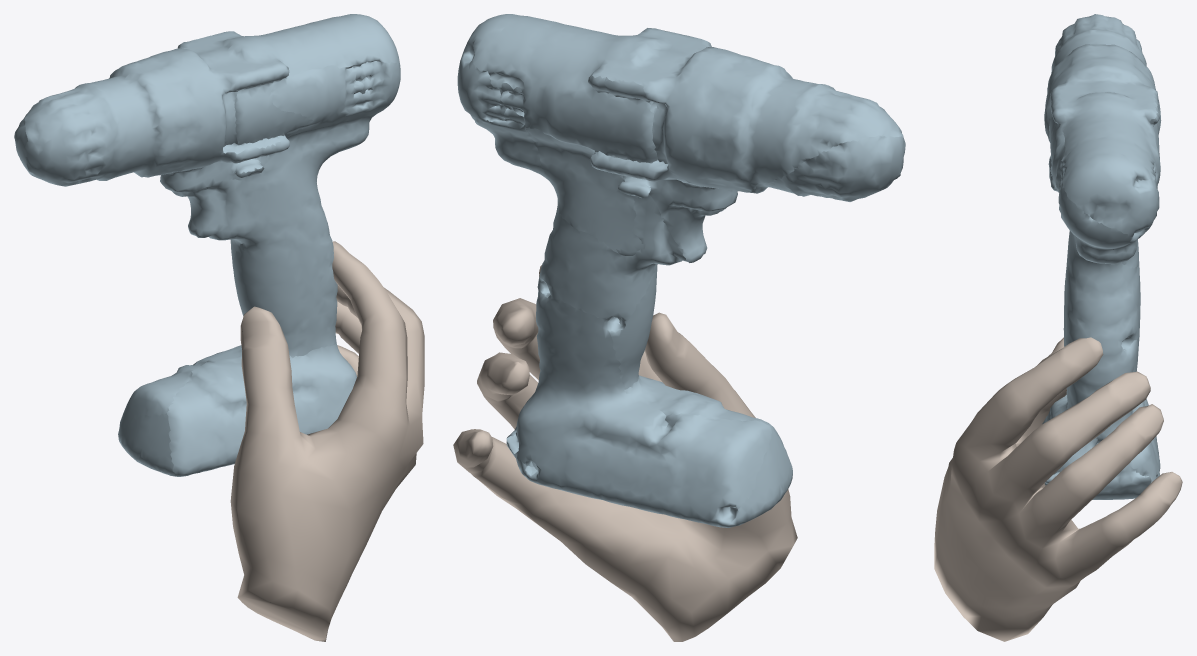
The model's file is ours_power_drill.glb.
3 views of the same model, side by side, from view 1: azimuth 30°, elevation 25°; view 2: azimuth 150°, elevation 25°; view 3: azimuth 270°, elevation 25° (orthographic). The views are drawn at different scales.
Size of the model in its own units: 0.1866 by 0.2691 by 0.1117.
